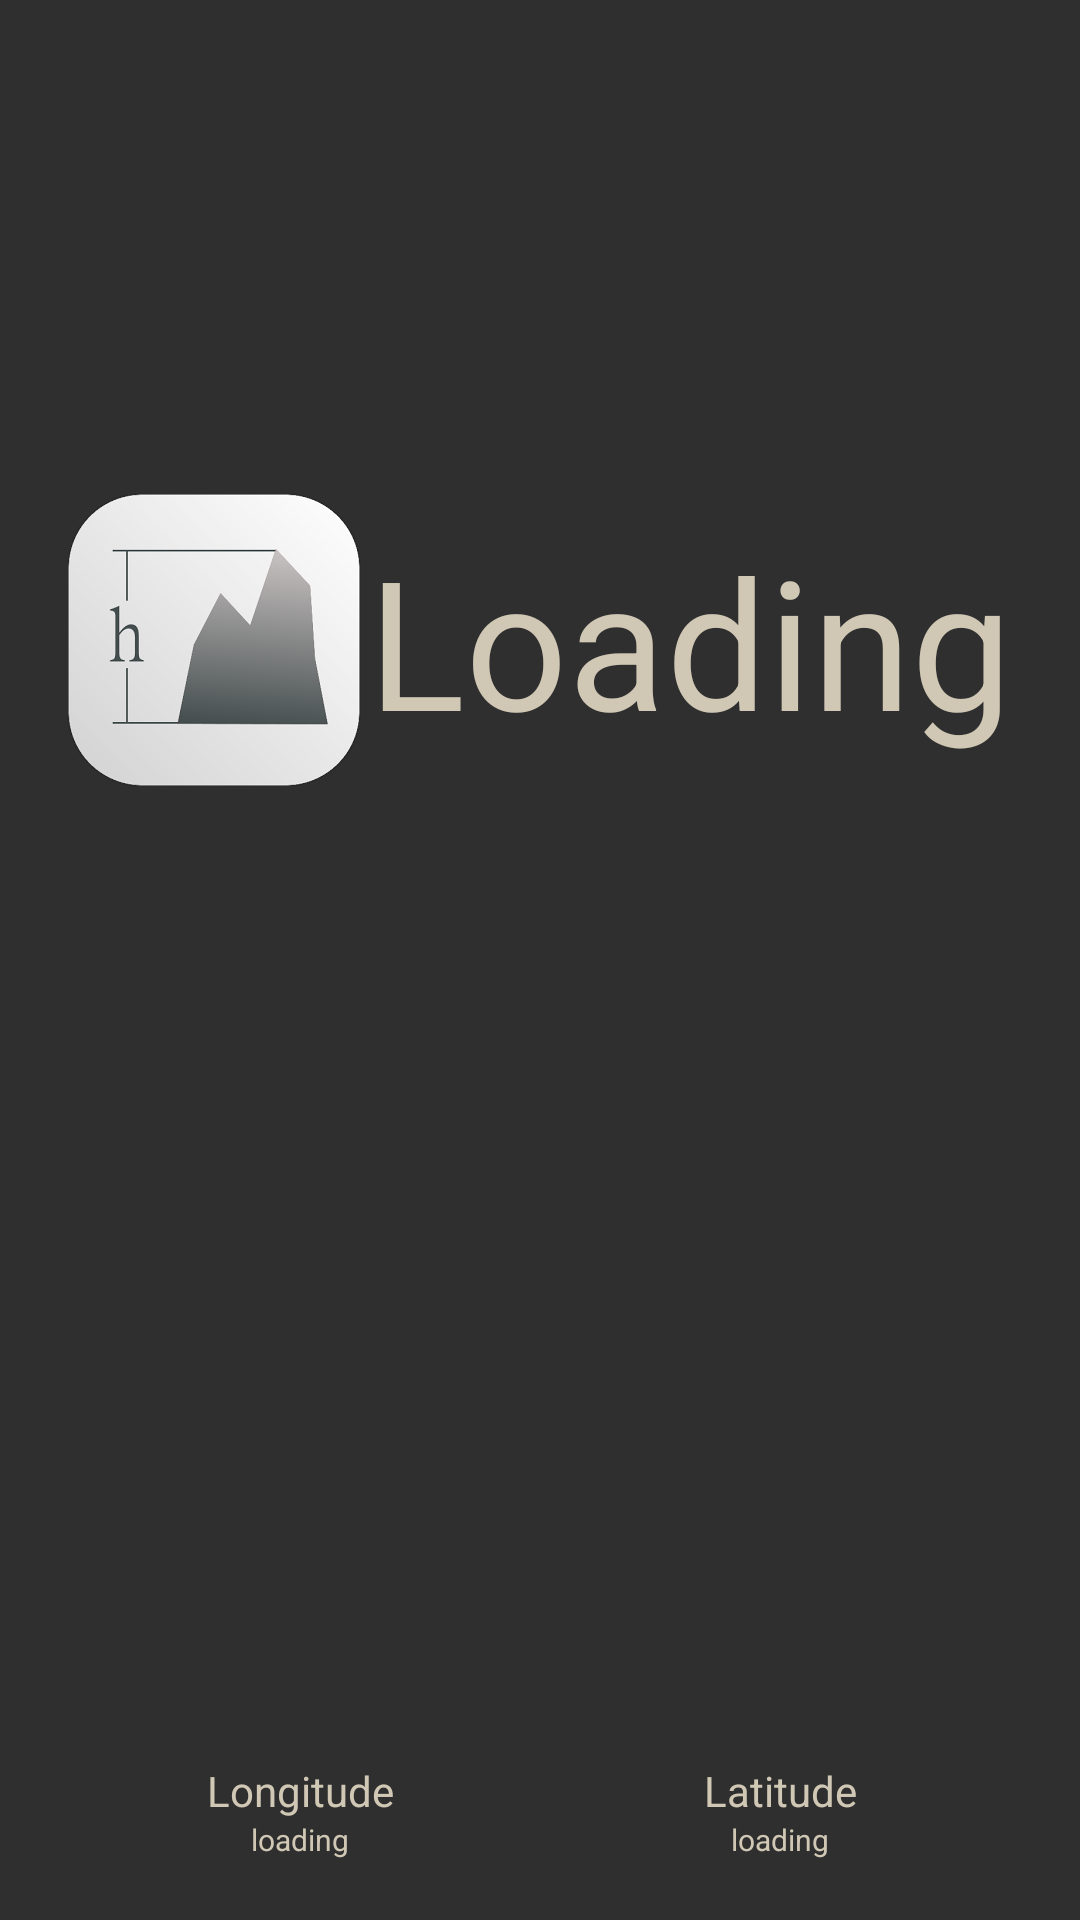

Named icons in this screenshot (1080×1920) and their centers, (x,y):
altimeter: (214,640)
